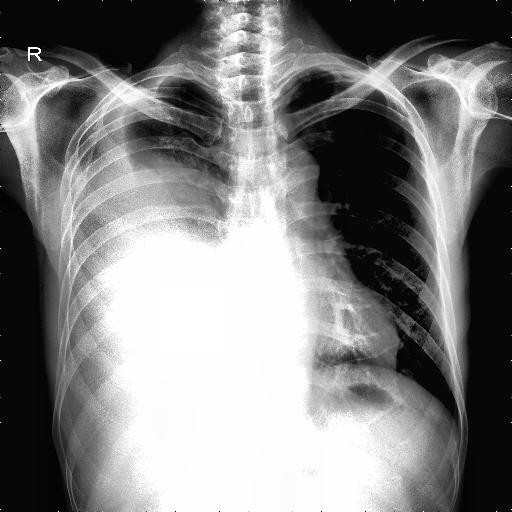10- Pleural effusion: (70, 68, 228, 396), (70, 88, 236, 386), (62, 86, 232, 352)
6- Infiltration: (126, 134, 216, 216)
7- Lung Opacity: (126, 134, 216, 216), (166, 143, 222, 226)
